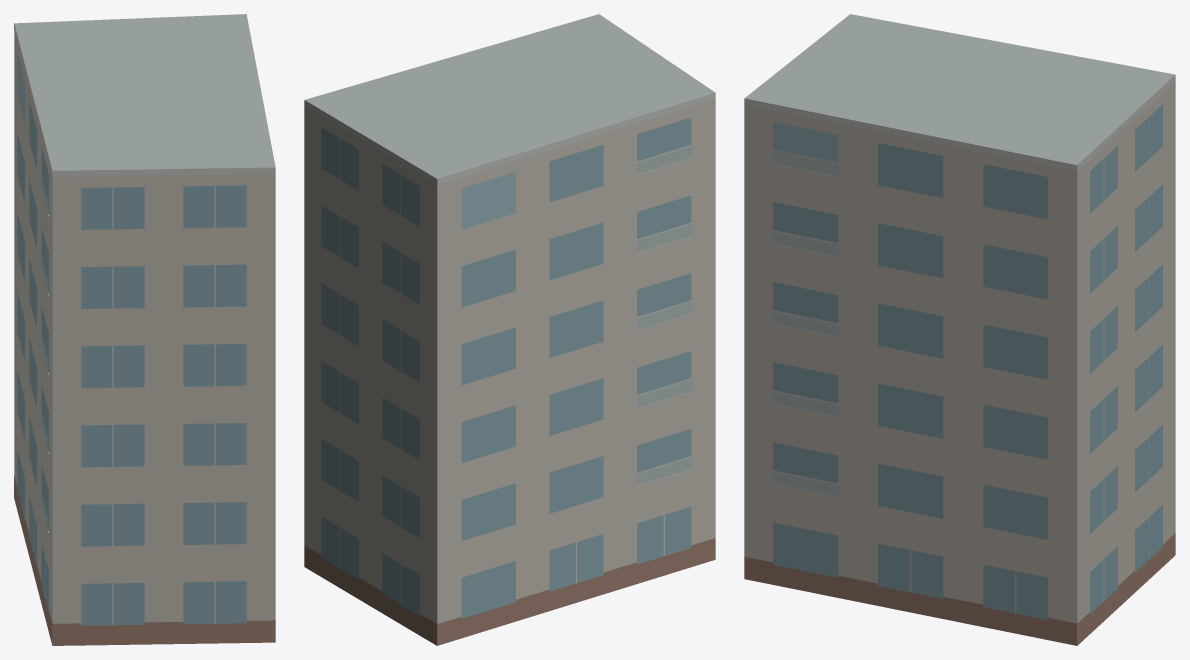
The model's file is survey-upis-32475877.glb.
The picture shows the model from 3 angles, left to right: view 1: azimuth 30°, elevation 25°; view 2: azimuth 150°, elevation 25°; view 3: azimuth 270°, elevation 25°; orthographic projection. The views are drawn at different scales.
Parts seen in each view (by area): view 1: survey-upis-32475877.tmp; view 2: survey-upis-32475877.tmp; view 3: survey-upis-32475877.tmp.
Boxes of the visible parts, x1,y1,x2,y2 form: survey-upis-32475877.tmp: (14, 14, 275, 645); survey-upis-32475877.tmp: (304, 14, 715, 645); survey-upis-32475877.tmp: (744, 14, 1175, 645).
Bounding box in the file's own units: 12.93 × 19.15 × 15.58.
